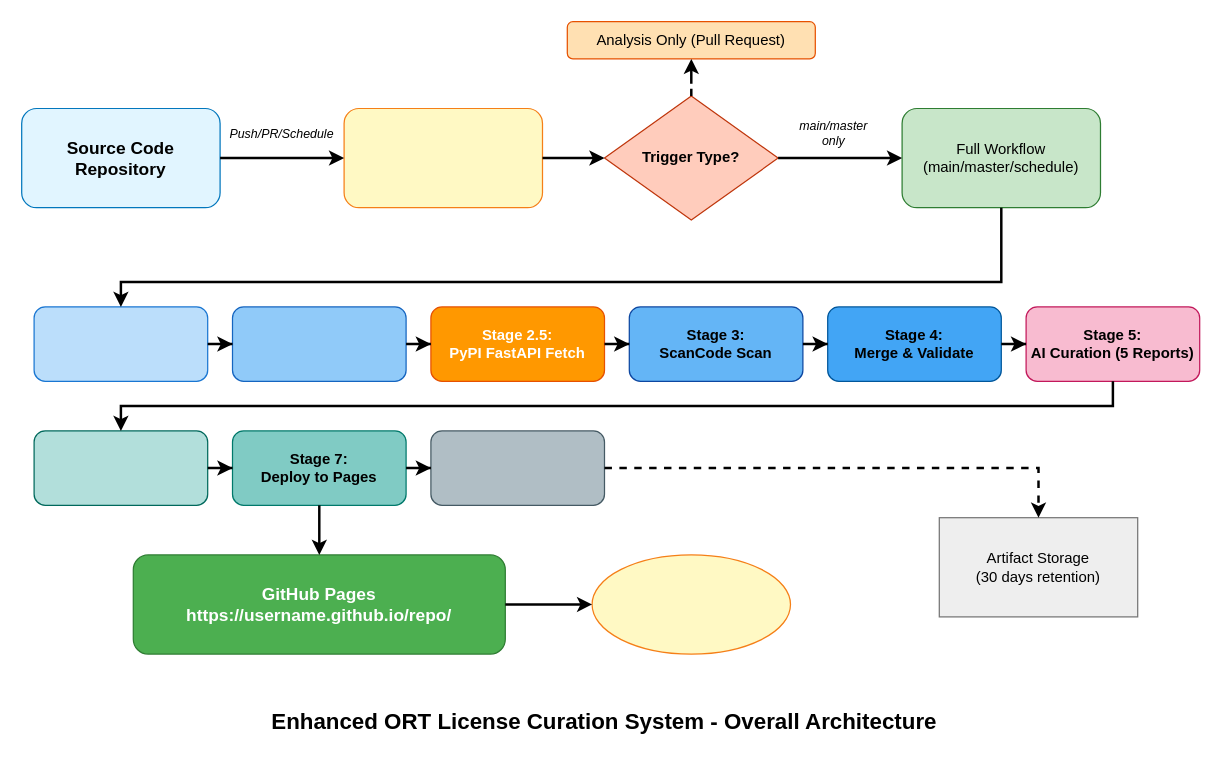
This 1221x763 diagram has some shape labels left out. Here are the shapes that lost their labels. From the top down, the centre of each, then its label:
At pixel 442 157: "GitHub Actions Trigger".
At pixel 120 343: "Stage 1: ORT Analysis".
At pixel 318 343: "Stage 2: Extract Uncertain".
At pixel 120 467: "Stage 6: Prepare Deployment".
At pixel 517 467: "Stage 8: Upload Artifacts".
At pixel 690 604: "Stakeholders View Reports".
